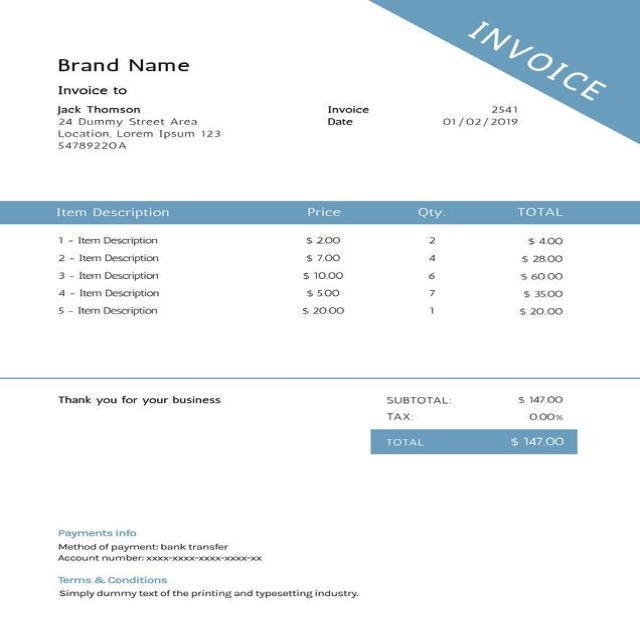ROI: (27, 194, 612, 359), (361, 381, 600, 467), (460, 9, 625, 102), (54, 84, 230, 164), (51, 574, 369, 616), (47, 521, 274, 568), (321, 103, 536, 137), (47, 384, 227, 421), (51, 51, 196, 78)
